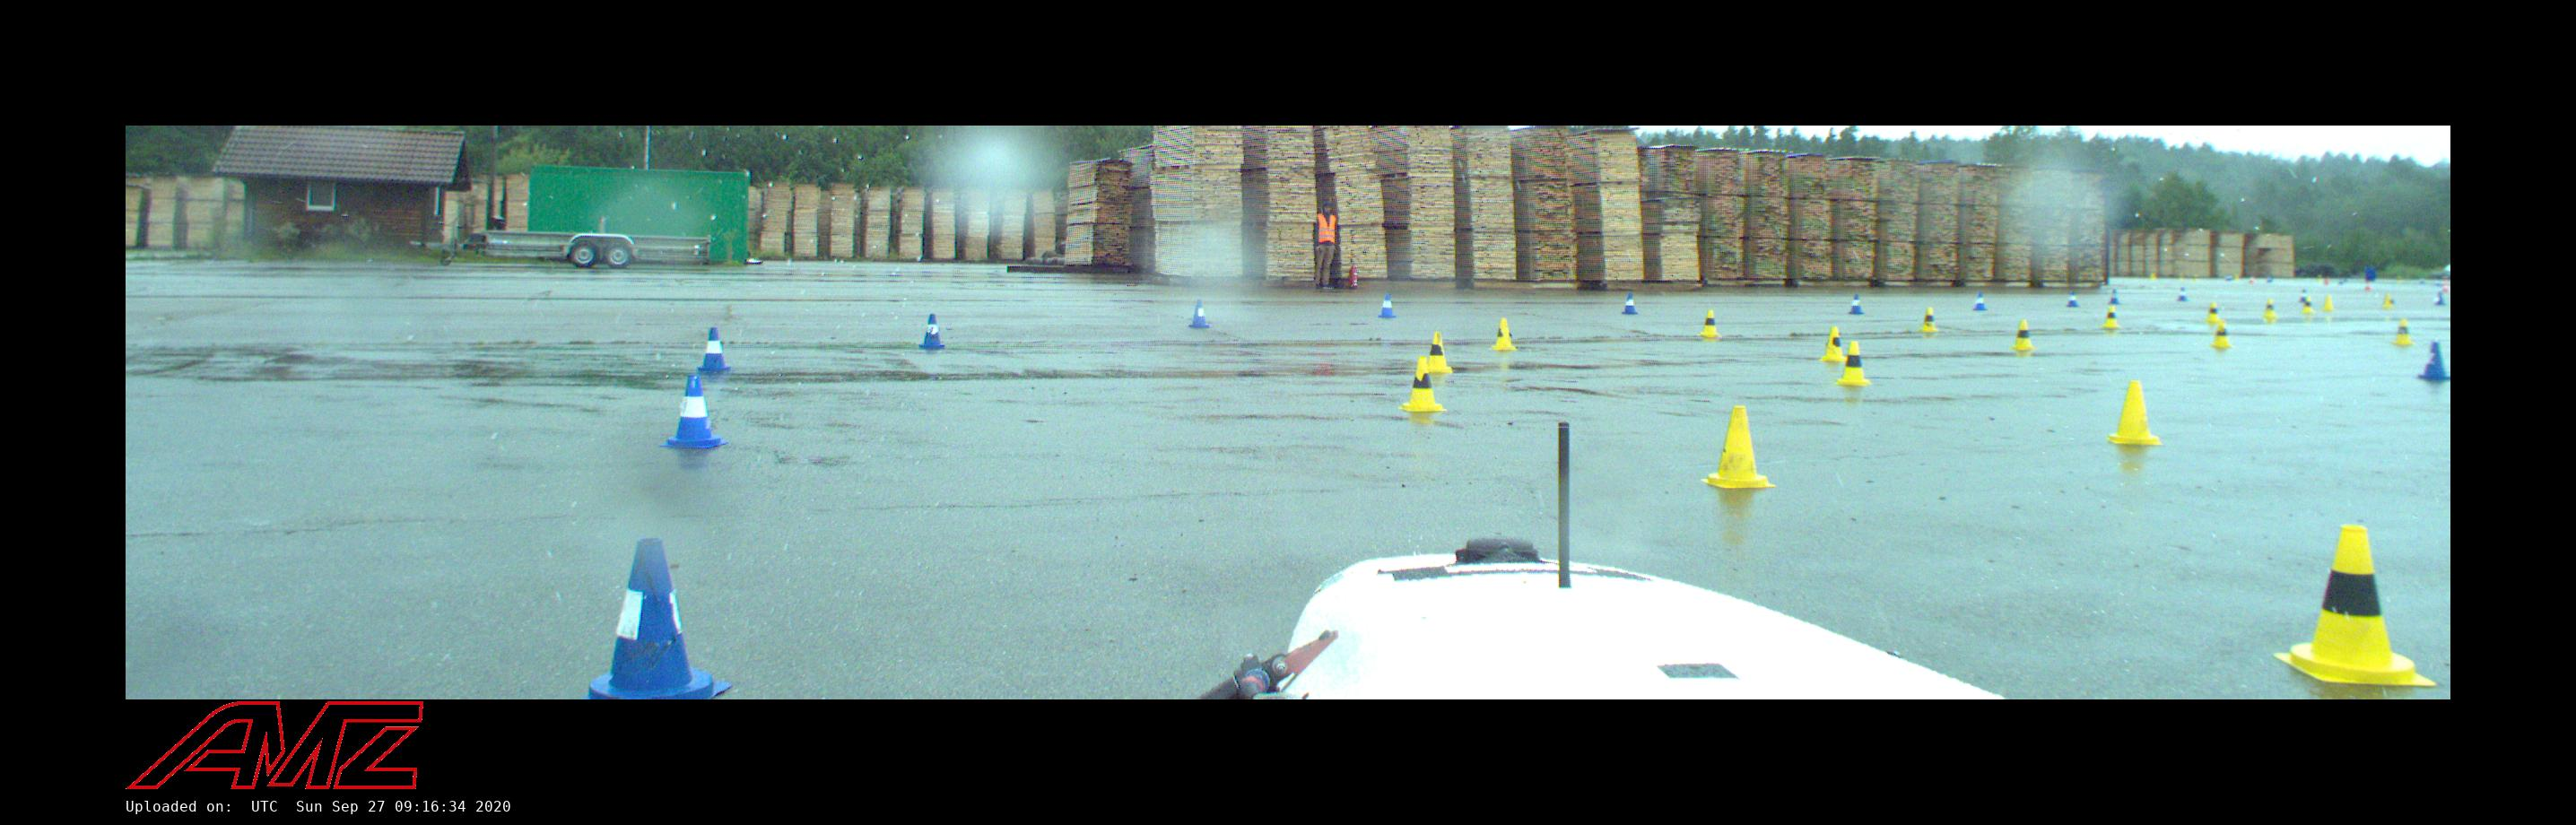blue_cone: (578, 539, 733, 700), (660, 375, 729, 449), (693, 327, 734, 371), (2417, 342, 2451, 380), (920, 316, 945, 348), (1188, 301, 1211, 329), (1378, 294, 1396, 317), (1621, 293, 1638, 314), (1848, 294, 1865, 314), (1973, 293, 1988, 311), (2065, 291, 2080, 307), (2177, 288, 2188, 301), (2109, 289, 2119, 304)
yellow_cone: (2275, 524, 2435, 685), (1702, 406, 1776, 488), (2106, 381, 2162, 444), (1400, 358, 1447, 411), (1833, 342, 1871, 386), (1428, 332, 1452, 371), (1819, 327, 1847, 360), (1490, 319, 1516, 350), (2011, 320, 2036, 350), (2210, 320, 2231, 347), (2392, 320, 2413, 345), (1700, 311, 1720, 335), (1919, 307, 1937, 330), (2103, 307, 2119, 327), (2262, 299, 2277, 317), (2206, 302, 2219, 322), (2302, 297, 2315, 312)
